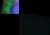slime: (0, 0, 19, 14)
